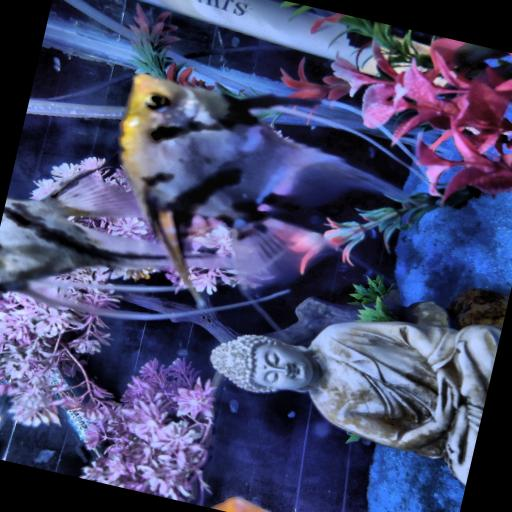Fish: (120, 74, 405, 303), (0, 170, 170, 311), (0, 170, 168, 294), (212, 497, 269, 511)
